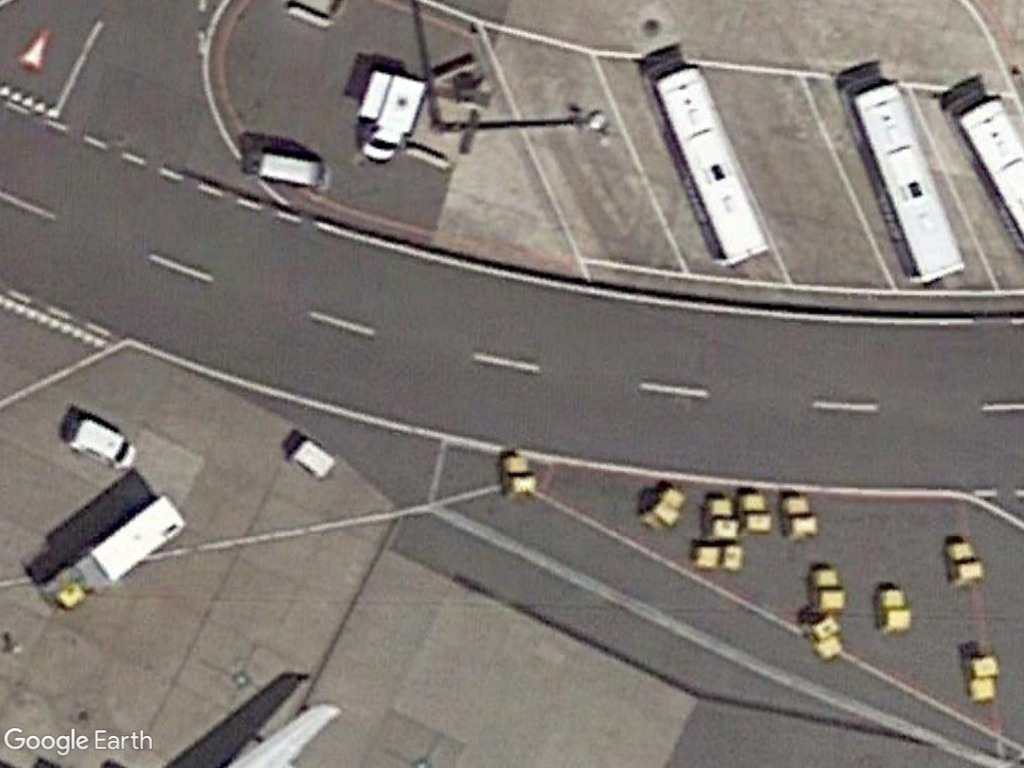bus: (841, 75, 968, 288), (651, 62, 771, 270)
truck: (48, 490, 189, 619)
van: (65, 414, 141, 472)
